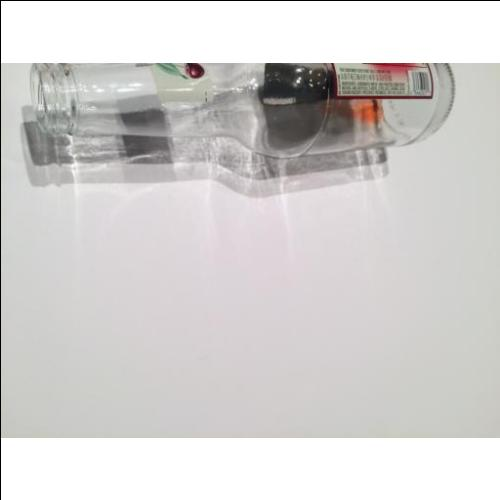glass: (34, 61, 454, 159)
